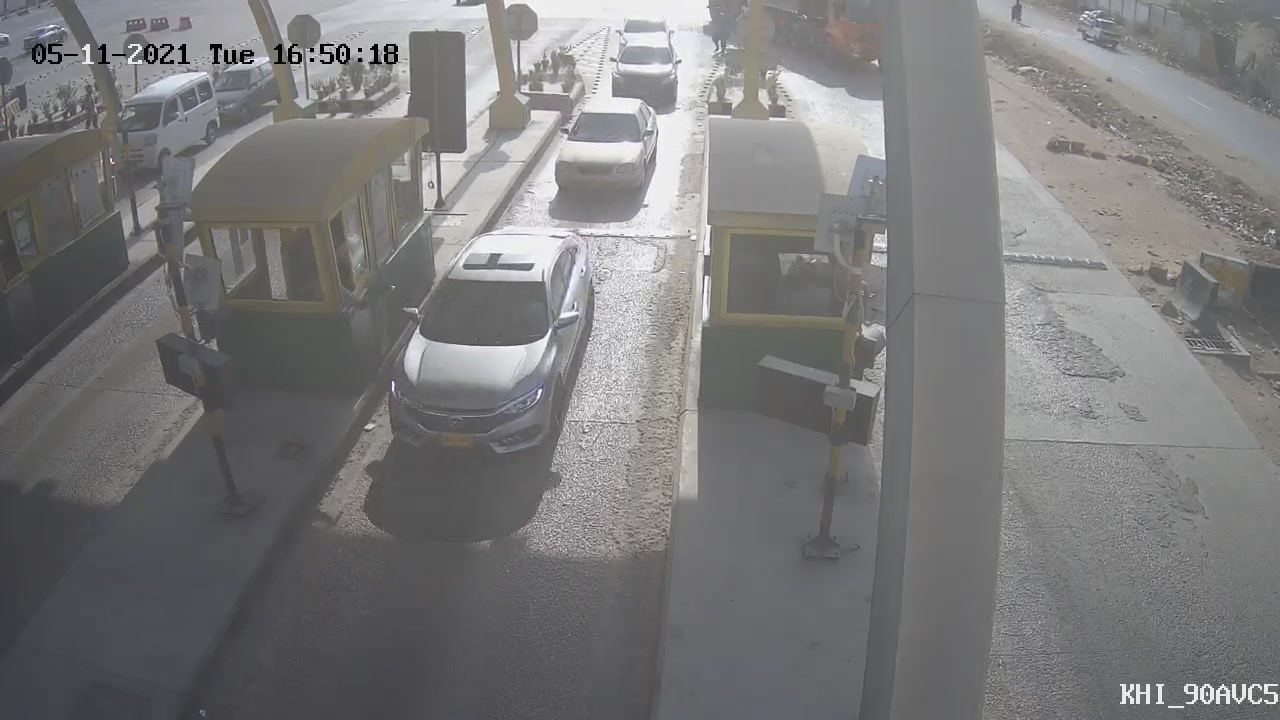F1: (364, 205, 617, 479), (539, 81, 673, 214)
